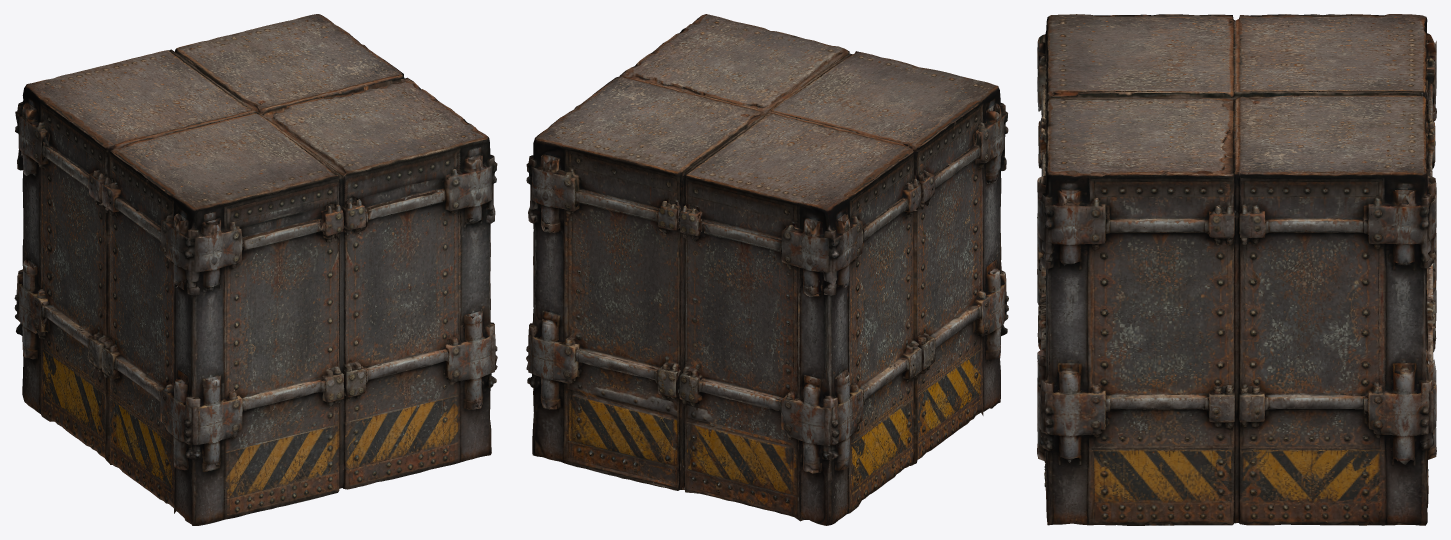
The model's file is BK_BlastDoor.fbx.
The picture shows the model from 3 angles, left to right: view 1: azimuth 30°, elevation 25°; view 2: azimuth 150°, elevation 25°; view 3: azimuth 270°, elevation 25°; orthographic projection. The views are drawn at different scales.
Visible parts, largest first — view 1: texture_mapping; view 2: texture_mapping; view 3: texture_mapping.
Part boxes in pixels (left/top/right/bottom): texture_mapping: left=14, top=14, right=497, bottom=525; texture_mapping: left=526, top=14, right=1008, bottom=525; texture_mapping: left=1037, top=14, right=1436, bottom=525.
Size of the model in its own units: 1 by 1 by 0.9766.
1 material, 1 textured.
